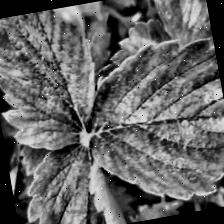Powdery Mildew Leaf: (73, 30, 224, 214)
